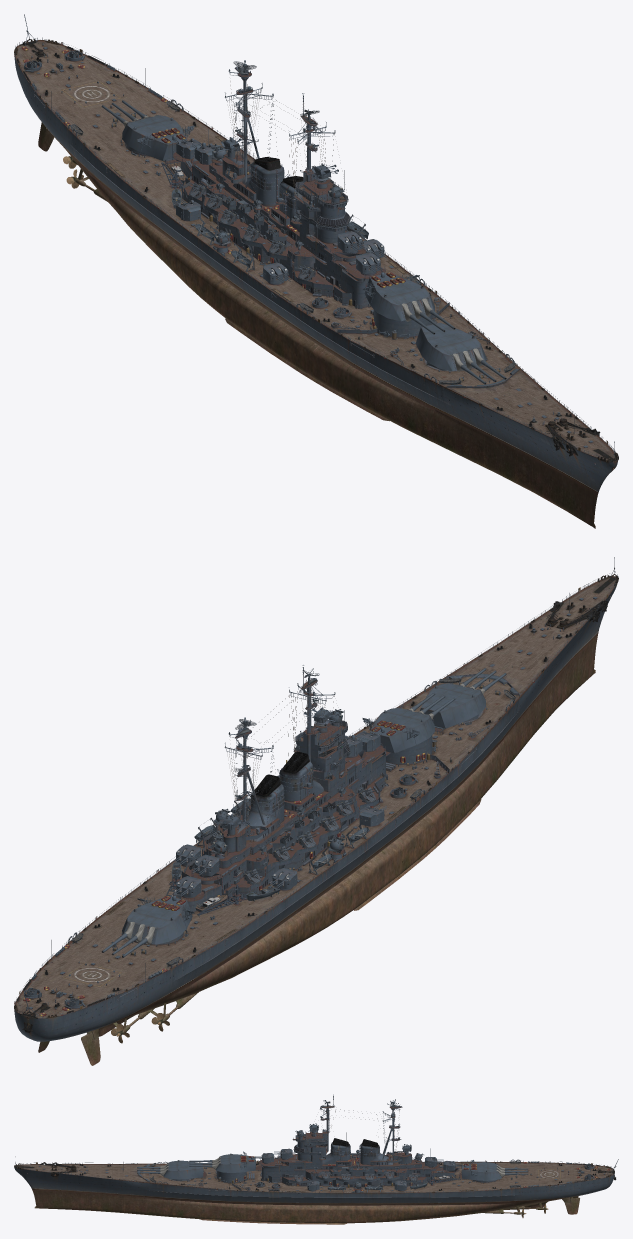
File: admiral_ushakov-maximum-compressed.glb
3 views of the same model, one above another, from view 1: azimuth 30°, elevation 25°; view 2: azimuth 150°, elevation 25°; view 3: azimuth 270°, elevation 25° (orthographic). The views are drawn at different scales.
Visible parts, largest first — view 1: Object_105, Object_102, Object_109, Object_104, Object_110, Object_103, Object_30, Object_108, Object_106, Object_31, Object_101, Object_32 (+2 smaller); view 2: Object_102, Object_109, Object_105, Object_110, Object_104, Object_103, Object_30, Object_101, Object_106, Object_31, Object_108, Object_35 (+2 smaller); view 3: Object_105, Object_109, Object_102, Object_110, Object_104, Object_103, Object_30, Object_108, Object_106, Object_31, Object_101, Object_33 (+2 smaller).
Boxes of the visible parts, x1,y1,x2,y2 form: Object_105: (38, 122, 618, 528); Object_102: (73, 68, 459, 340); Object_109: (72, 116, 469, 366); Object_104: (14, 14, 177, 135); Object_110: (14, 44, 549, 447); Object_103: (351, 314, 556, 414); Object_30: (101, 100, 455, 334); Object_108: (500, 404, 618, 494); Object_106: (74, 66, 460, 345); Object_31: (415, 322, 506, 384); Object_101: (501, 401, 615, 462); Object_32: (174, 137, 382, 273); Object_102: (78, 667, 459, 965); Object_109: (83, 721, 459, 991); Object_105: (38, 573, 618, 1065); Object_110: (14, 650, 556, 1041); Object_104: (14, 937, 179, 1018); Object_103: (350, 642, 556, 764); Object_30: (101, 692, 455, 957); Object_101: (500, 575, 616, 656); Object_106: (75, 667, 461, 961); Object_31: (420, 668, 506, 728); Object_108: (530, 558, 618, 688); Object_35: (192, 854, 297, 889); Object_105: (23, 1162, 579, 1224); Object_109: (217, 1131, 514, 1205); Object_102: (216, 1100, 514, 1193); Object_110: (103, 1159, 614, 1203); Object_104: (511, 1159, 618, 1188); Object_103: (103, 1163, 229, 1191); Object_30: (189, 1153, 528, 1180); Object_108: (14, 1162, 102, 1193); Object_106: (234, 1096, 512, 1192); Object_31: (137, 1160, 203, 1179); Object_101: (15, 1162, 102, 1178); Object_33: (274, 1148, 319, 1190).
Bounding box in the file's own units: 29.15 × 47.28 × 228.
Materials: 87 (85 with a texture image).
